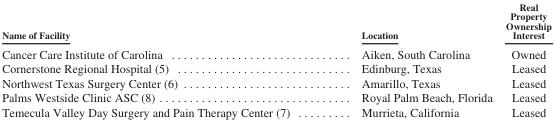table: (1, 0, 550, 118)
table column: (1, 0, 325, 118), (325, 0, 498, 118), (498, 0, 550, 118)
table column header: (1, 0, 550, 43)
table row: (1, 0, 550, 43), (1, 43, 550, 60), (1, 60, 550, 75), (1, 89, 550, 104), (1, 75, 550, 89), (1, 104, 550, 118)
